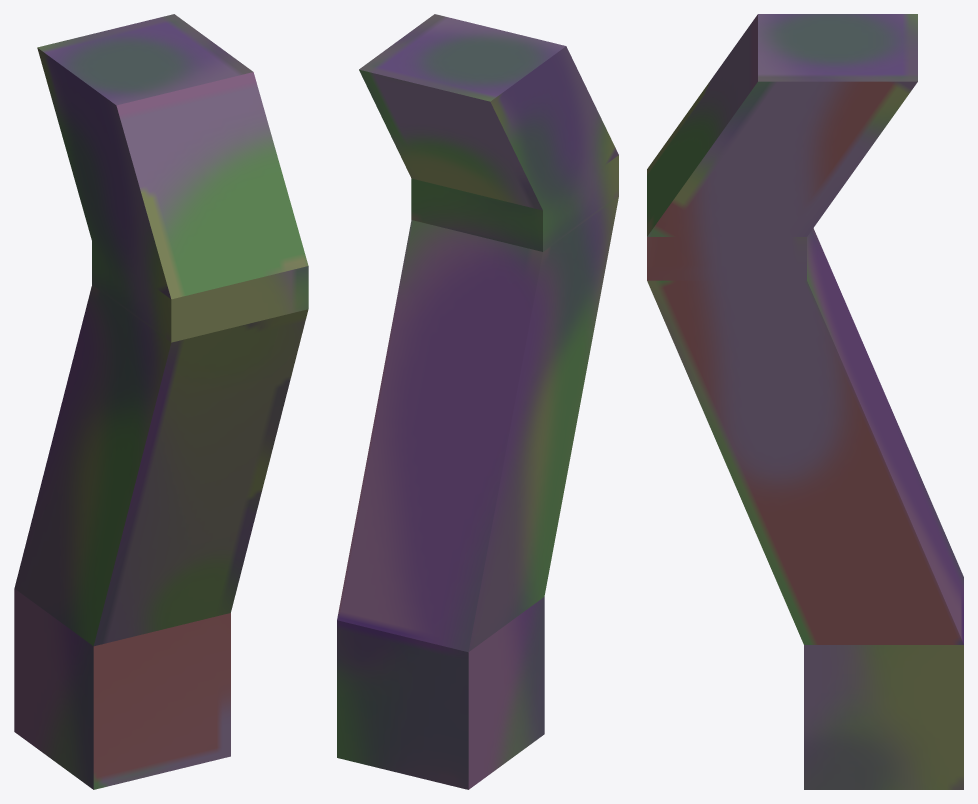
The model's file is static1.obj.
3 renders of one model, left to right at view 1: azimuth 30°, elevation 25°; view 2: azimuth 150°, elevation 25°; view 3: azimuth 270°, elevation 25°, orthographic. The views are drawn at different scales.
Visible parts, largest first — view 1: Cube; view 2: Cube; view 3: Cube.
Part boxes in pixels (<box>): Cube: <box>14,14,308,789</box>; Cube: <box>337,14,618,789</box>; Cube: <box>647,14,963,789</box>.
Size of the model in its own units: 0.4 by 1.95 by 0.7922.
